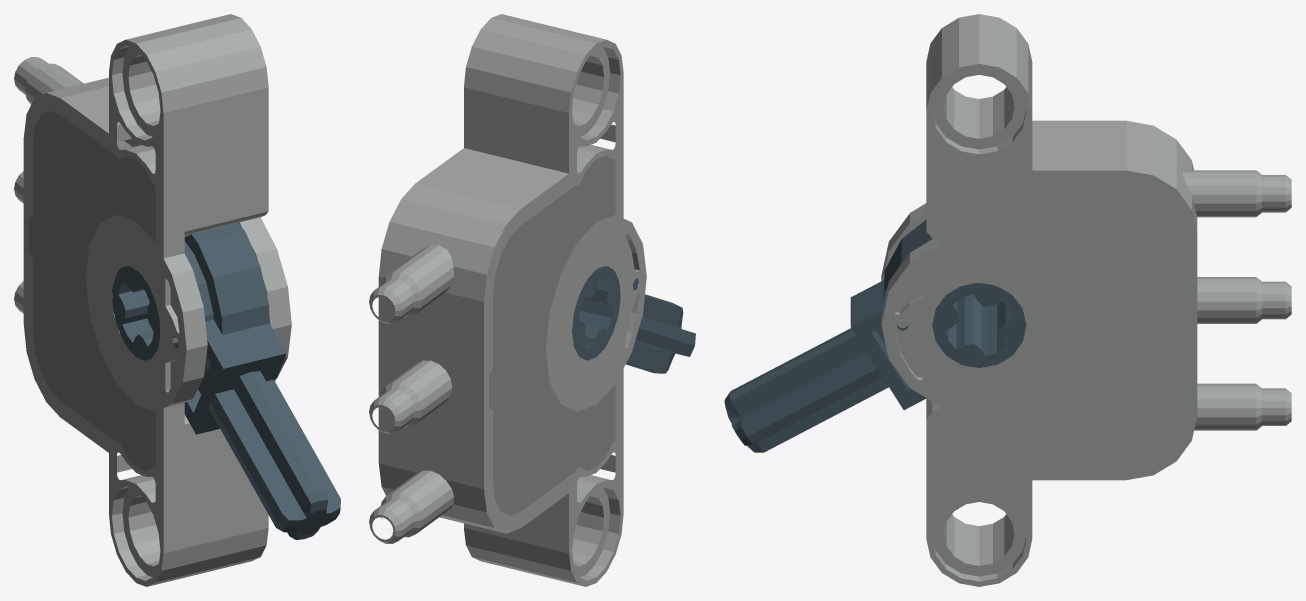
3 renders of one model, left to right at view 1: azimuth 30°, elevation 25°; view 2: azimuth 150°, elevation 25°; view 3: azimuth 270°, elevation 25°, orthographic. The views are drawn at different scales.
Parts seen in each view (by area): view 1: world; view 2: world; view 3: world.
Boxes of the visible parts, x1=… form: world: x1=14, y1=14, x2=340, y2=586; world: x1=369, y1=14, x2=695, y2=586; world: x1=724, y1=14, x2=1291, y2=586.
Size of the model in its own units: 0.008 by 0.0392 by 0.0385.
